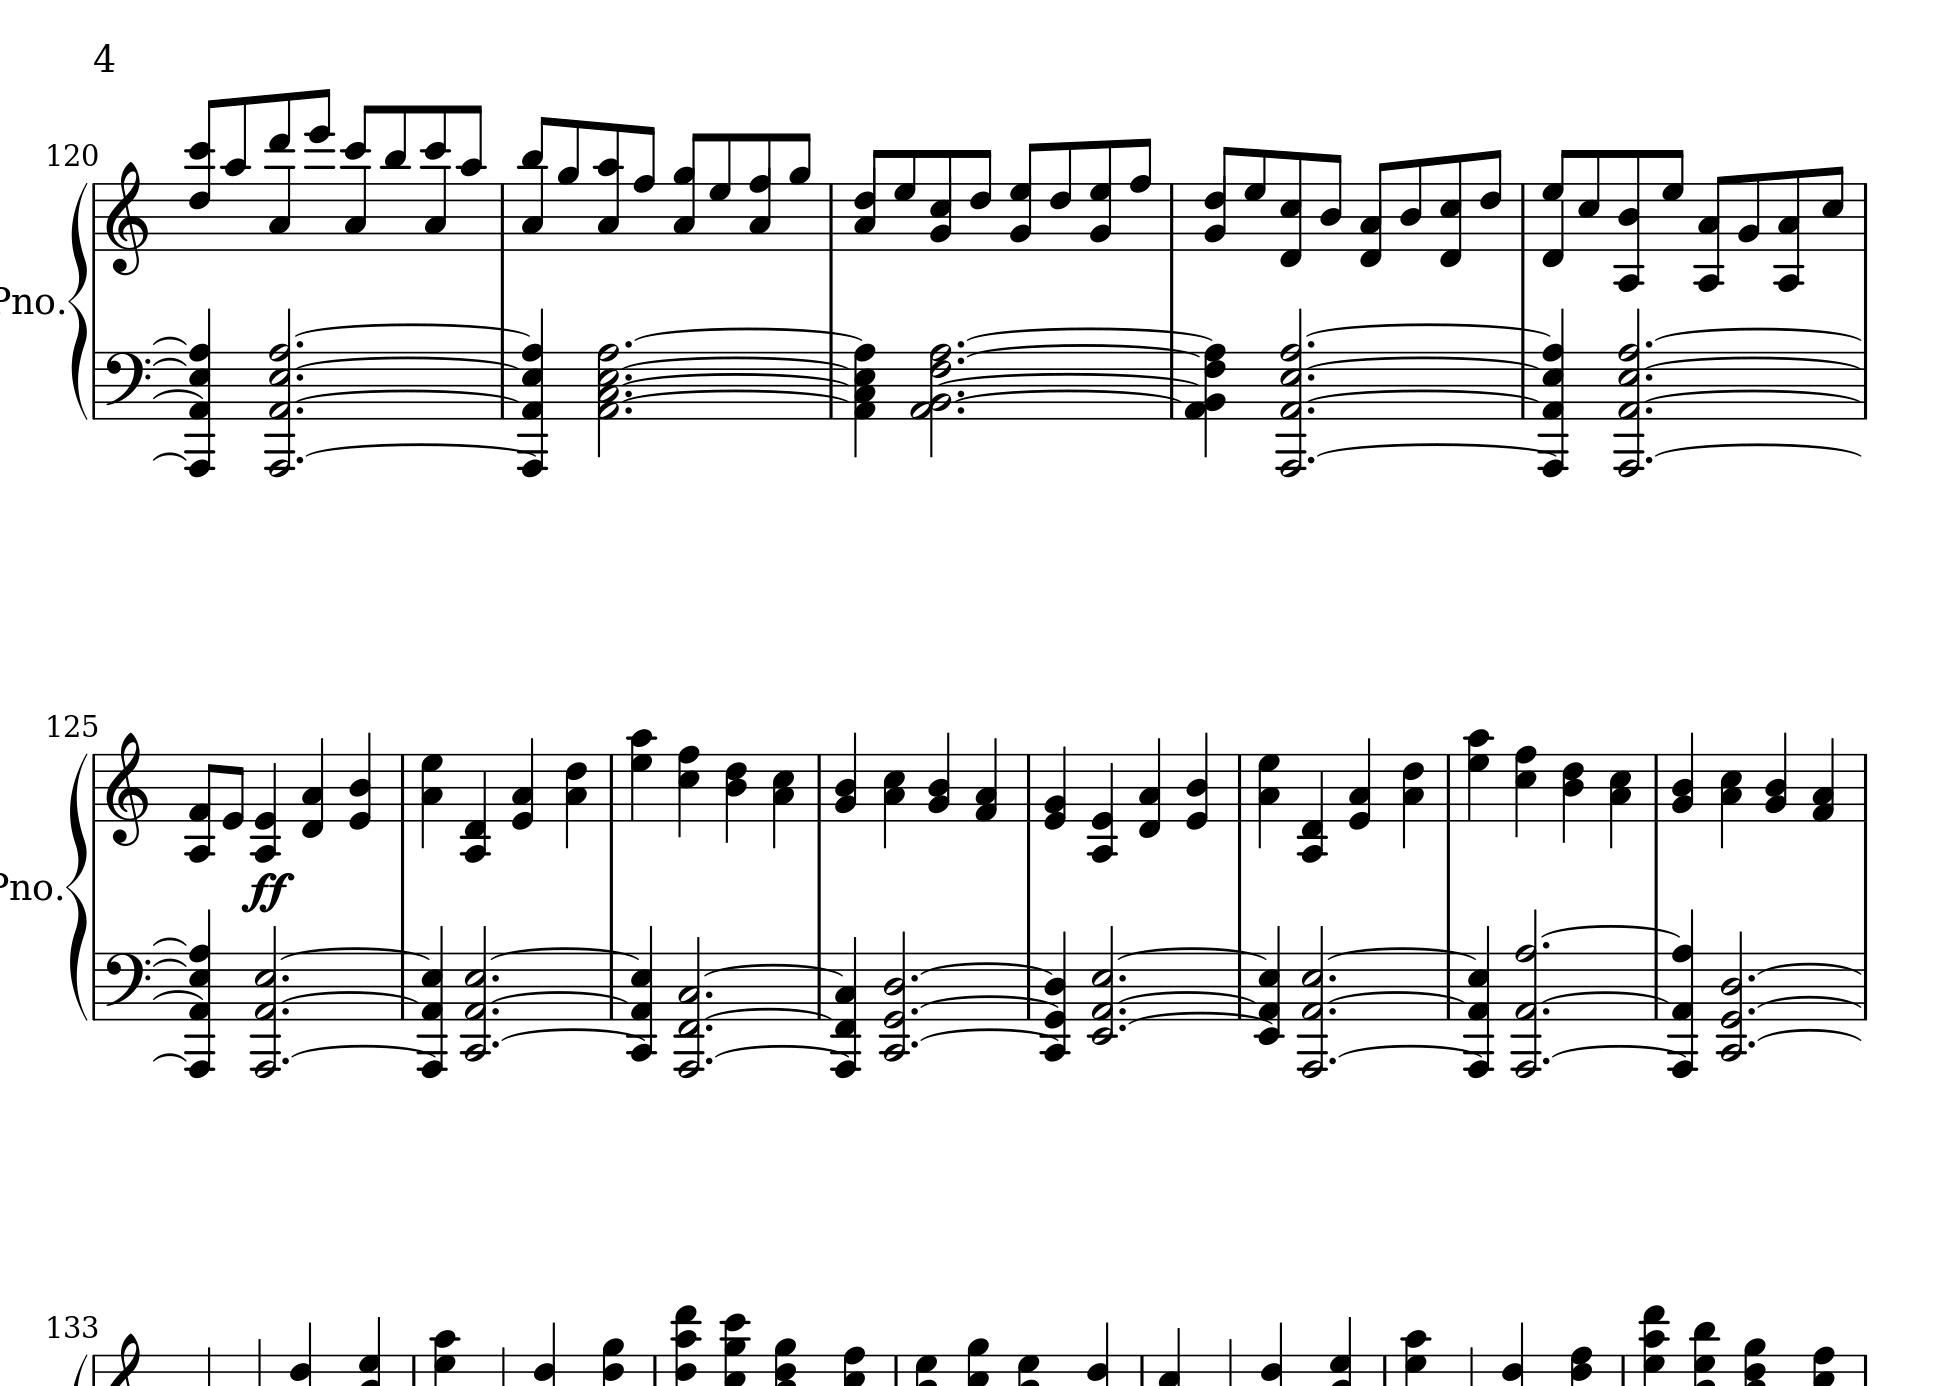0: (81, 139, 97, 168)
1: (46, 141, 61, 168), (46, 712, 61, 739), (46, 1312, 60, 1341)
2: (61, 141, 79, 168), (61, 712, 79, 739)
2_4th: (1273, 307, 1305, 477), (907, 339, 952, 457), (1612, 306, 1642, 478), (264, 304, 292, 478), (597, 343, 619, 460)
3: (81, 1312, 99, 1339), (63, 1312, 79, 1339)
4: (93, 40, 115, 72)
4_-1_3: (1137, 739, 1164, 840), (300, 736, 325, 838)
4_-3_-1: (1297, 751, 1330, 862)
4_-4_-1: (457, 753, 492, 862)
4_-4_0: (247, 753, 283, 862), (1086, 751, 1119, 864)
4_0_2: (1042, 744, 1069, 829)
4_0_3: (508, 736, 535, 829), (1347, 738, 1374, 829)
4_0_4: (346, 732, 373, 829), (1185, 733, 1210, 829)
4_1_3: (973, 736, 999, 823), (1812, 736, 1837, 823)
4_2_4: (1671, 733, 1696, 823), (927, 730, 951, 823), (834, 732, 858, 823)
4_3_5: (882, 751, 907, 850), (1608, 751, 1633, 850), (771, 753, 796, 850), (1719, 751, 1743, 850), (1764, 733, 1789, 822)
4_3_6: (565, 751, 589, 850), (1401, 751, 1425, 850)
4_3_7: (418, 753, 445, 849), (1257, 751, 1282, 850)
4_4_6: (1561, 751, 1587, 847), (724, 751, 748, 844)
4_4th: (1536, 303, 1567, 480), (516, 306, 547, 480), (1185, 340, 1228, 457), (852, 342, 877, 454)
4_5_8: (676, 744, 702, 840), (1513, 742, 1539, 837)
4_7_10: (624, 727, 657, 823), (1464, 727, 1497, 823)
5: (81, 709, 97, 739)
8_-1_3: (1360, 160, 1392, 268)
8_-1_5: (1437, 153, 1464, 268), (1279, 150, 1305, 268)
8_-4_3: (1693, 175, 1732, 292), (1773, 169, 1809, 292), (184, 753, 219, 862)
8_-4_4: (1614, 148, 1647, 292)
8_0: (222, 751, 244, 832)
8_10: (222, 94, 250, 253), (457, 103, 484, 255)
8_14: (306, 85, 333, 253)
8_2: (1737, 172, 1762, 253)
8_2_5: (928, 148, 952, 252)
8_2_6: (1203, 144, 1234, 252)
8_2_7: (1009, 142, 1041, 255), (1089, 139, 1116, 253)
8_3_6: (853, 148, 886, 253)
8_3_8: (747, 130, 772, 253)
8_3_9: (672, 130, 703, 252)
8_4: (1398, 156, 1425, 252), (1318, 151, 1344, 252)
8_5: (1576, 147, 1602, 253), (1821, 163, 1845, 252)
8_6: (967, 145, 994, 253), (1048, 139, 1074, 253), (1479, 148, 1503, 253)
8_7: (708, 132, 733, 253), (1243, 145, 1269, 252), (1660, 147, 1686, 253), (892, 147, 916, 253)
8_8: (631, 124, 658, 253), (1128, 136, 1153, 253)
8_9: (556, 115, 580, 252), (787, 130, 811, 253)
Brace: (64, 748, 88, 1018), (67, 178, 88, 420)
Fclef: (103, 349, 151, 421)
Gclef: (103, 157, 151, 277), (103, 729, 151, 847)
Pno: (1, 282, 55, 318), (1, 868, 52, 904)
Single_barline: (1440, 753, 1459, 820), (1857, 349, 1875, 420), (1857, 751, 1875, 822), (1857, 951, 1875, 1021), (603, 753, 621, 820), (810, 753, 828, 820), (1020, 753, 1038, 820), (1231, 753, 1249, 820), (1647, 753, 1665, 820), (394, 754, 412, 820), (493, 183, 510, 250), (1164, 183, 1180, 250), (1515, 183, 1531, 250), (811, 951, 828, 1018), (1021, 951, 1038, 1018), (1648, 952, 1665, 1020), (604, 952, 621, 1018), (823, 183, 838, 249), (1860, 181, 1873, 252), (88, 183, 102, 250), (88, 351, 102, 418), (88, 753, 102, 820), (1233, 958, 1248, 1018), (88, 952, 102, 1018), (1443, 961, 1458, 1020), (396, 961, 411, 1018), (1857, 1354, 1872, 1384)
Slur: (289, 322, 532, 339), (1305, 322, 1549, 337), (304, 442, 537, 457), (961, 327, 1218, 340), (634, 325, 864, 340), (1653, 325, 1861, 342), (1647, 388, 1861, 403), (963, 343, 1200, 357), (288, 355, 522, 369), (1653, 442, 1863, 457), (1315, 442, 1548, 456), (939, 373, 1200, 385), (295, 388, 517, 402), (1641, 355, 1863, 369), (1305, 388, 1543, 400), (952, 388, 1185, 400), (1305, 355, 1537, 367), (624, 372, 850, 384), (622, 355, 847, 367), (1116, 943, 1266, 961), (622, 390, 846, 402), (1549, 1042, 1684, 1060), (1330, 945, 1477, 961), (700, 961, 841, 978), (277, 946, 430, 961), (1542, 922, 1680, 939), (487, 946, 637, 961), (1333, 1042, 1482, 1057), (918, 961, 1050, 978), (918, 1027, 1062, 1042), (499, 1027, 642, 1042), (916, 994, 1057, 1009), (1128, 1011, 1275, 1024), (711, 1044, 850, 1057), (490, 990, 628, 1003), (1329, 990, 1465, 1003), (280, 990, 415, 1003), (286, 1045, 436, 1057), (1116, 990, 1257, 1002), (705, 1006, 829, 1020), (1542, 990, 1665, 1003), (1755, 1027, 1863, 1042), (1755, 994, 1861, 1009), (703, 1006, 834, 1018), (1755, 961, 1864, 975), (151, 387, 201, 400), (151, 988, 202, 1000), (151, 334, 187, 346), (151, 934, 187, 946), (151, 357, 187, 367), (151, 957, 187, 967), (151, 1051, 187, 1062), (151, 451, 187, 460)
dot: (1539, 939, 1552, 952), (907, 970, 919, 984), (1116, 970, 1128, 984), (1746, 1003, 1758, 1017), (954, 394, 964, 409), (292, 337, 304, 349), (954, 337, 966, 349), (1305, 337, 1317, 349), (622, 403, 634, 415), (954, 403, 966, 415), (489, 970, 501, 982), (1326, 970, 1338, 982), (1326, 1054, 1338, 1066), (621, 339, 634, 349), (1746, 970, 1756, 984), (703, 987, 714, 1000), (1542, 1003, 1552, 1017), (490, 1003, 501, 1017), (1117, 1003, 1128, 1017), (1642, 337, 1653, 349), (954, 354, 966, 364), (294, 370, 304, 382), (1306, 370, 1317, 382), (1644, 370, 1654, 382), (954, 388, 964, 400), (1306, 403, 1317, 415), (1644, 403, 1654, 415), (294, 403, 304, 415), (1644, 453, 1654, 465), (909, 1003, 919, 1015), (1327, 1003, 1338, 1015), (280, 1005, 291, 1017), (1117, 1020, 1128, 1032), (703, 1021, 714, 1033), (1746, 1038, 1756, 1050), (279, 1054, 289, 1066), (703, 1054, 714, 1066), (1540, 1054, 1551, 1066), (622, 372, 633, 382), (294, 454, 304, 465), (1306, 454, 1317, 465), (909, 1038, 919, 1048), (621, 388, 633, 397), (280, 970, 289, 982), (490, 1036, 499, 1048)
ff: (238, 870, 295, 913)
